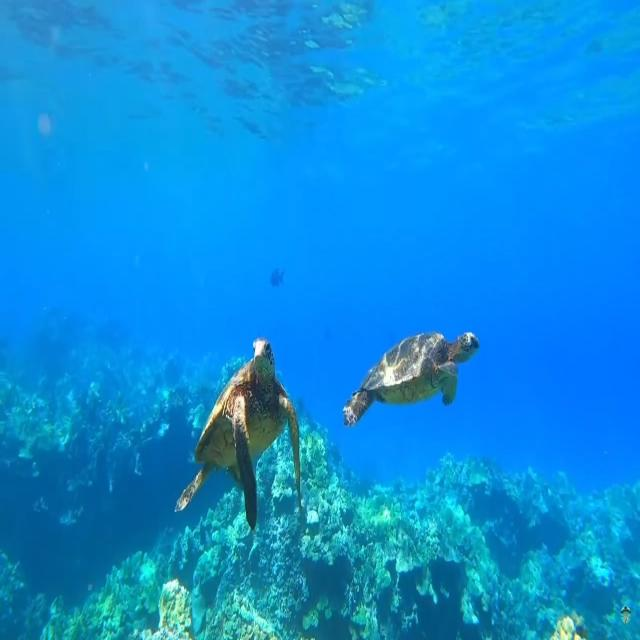Sea turtle: (173, 335, 305, 533), (344, 329, 482, 427)
